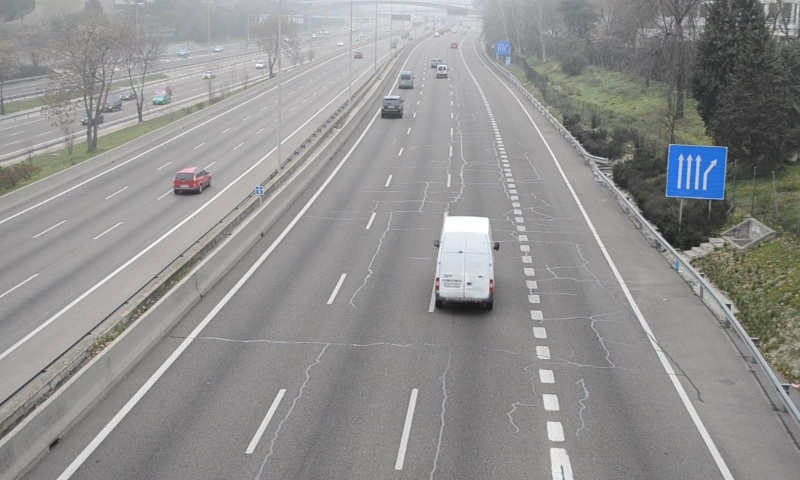car: (380, 96, 404, 120)
van: (435, 216, 494, 309), (398, 70, 413, 89)
